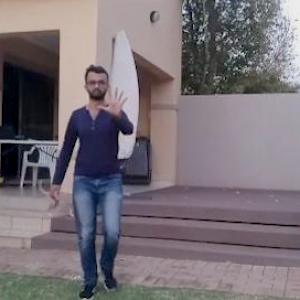follow_hand: (94, 79, 132, 122)
